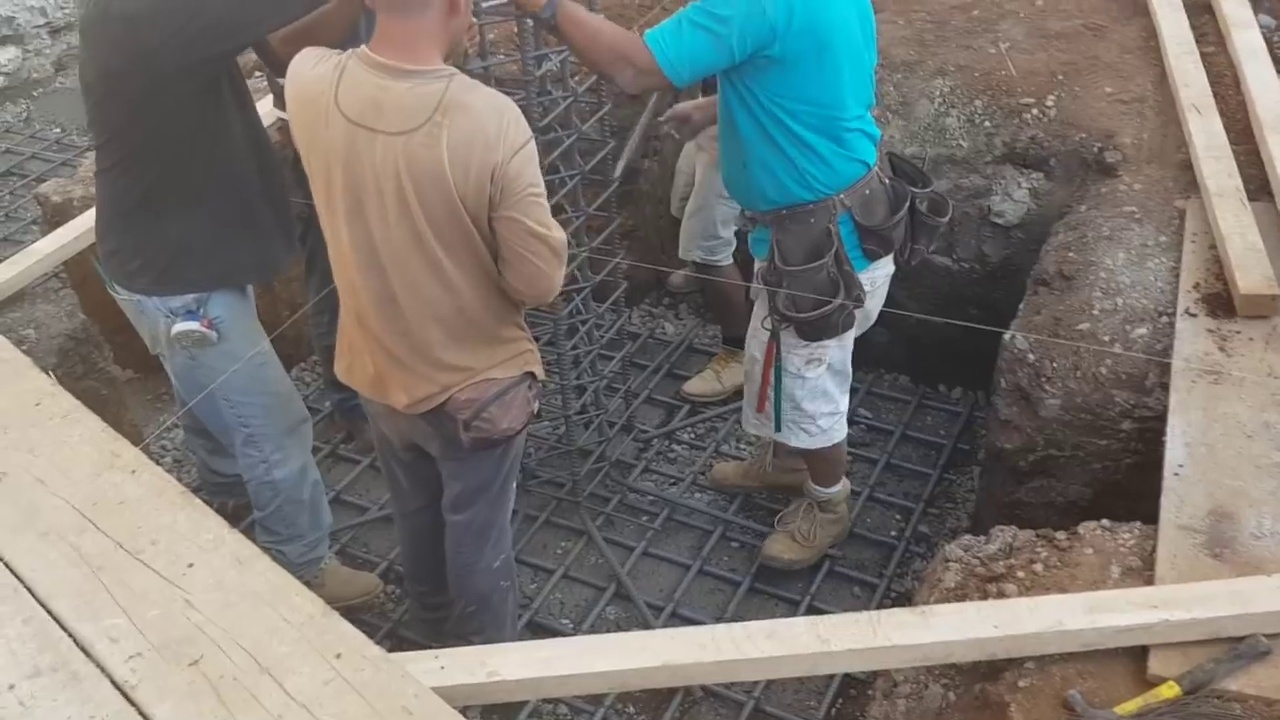person: (518, 0, 913, 565), (73, 0, 389, 609), (281, 0, 567, 642), (661, 72, 762, 409)
